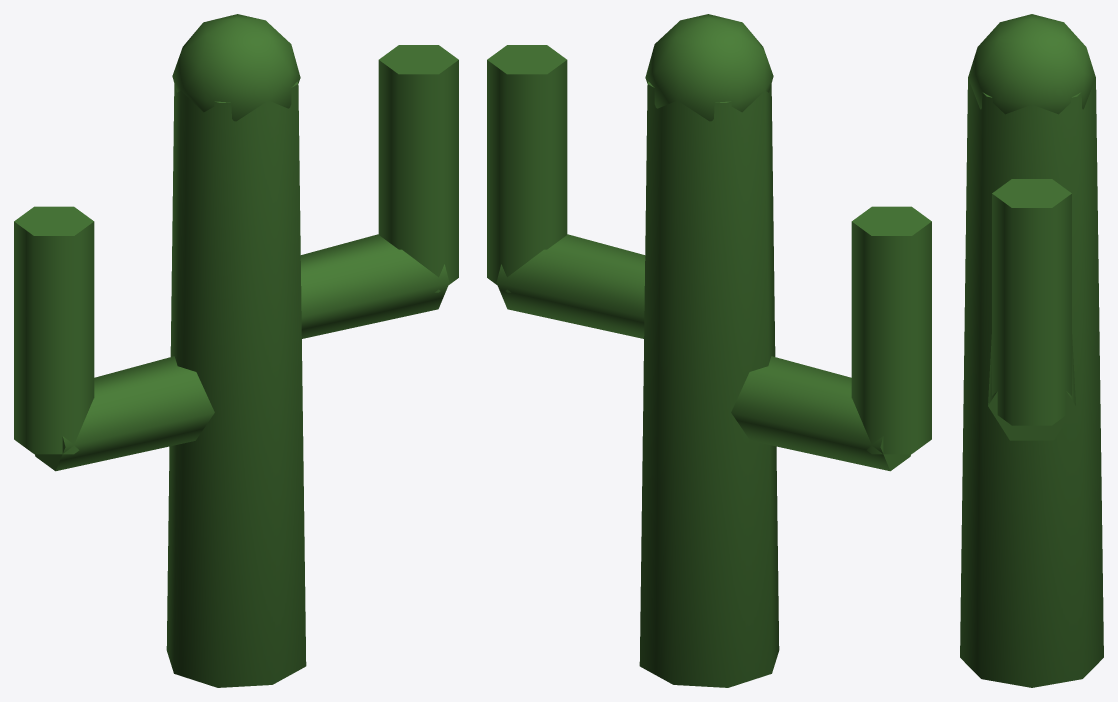
The model's file is cacto.glb.
3 views of the same model, side by side, from view 1: azimuth 30°, elevation 25°; view 2: azimuth 150°, elevation 25°; view 3: azimuth 270°, elevation 25° (orthographic).
Parts seen in each view (by area): view 1: cacto_liso; view 2: cacto_liso; view 3: cacto_liso.
Boxes of the visible parts, x1,y1,x2,y2 form: cacto_liso: (14, 14, 458, 687); cacto_liso: (487, 14, 931, 687); cacto_liso: (960, 14, 1103, 687).
Size of the model in its own units: 2.45 by 3.52 by 0.72.
